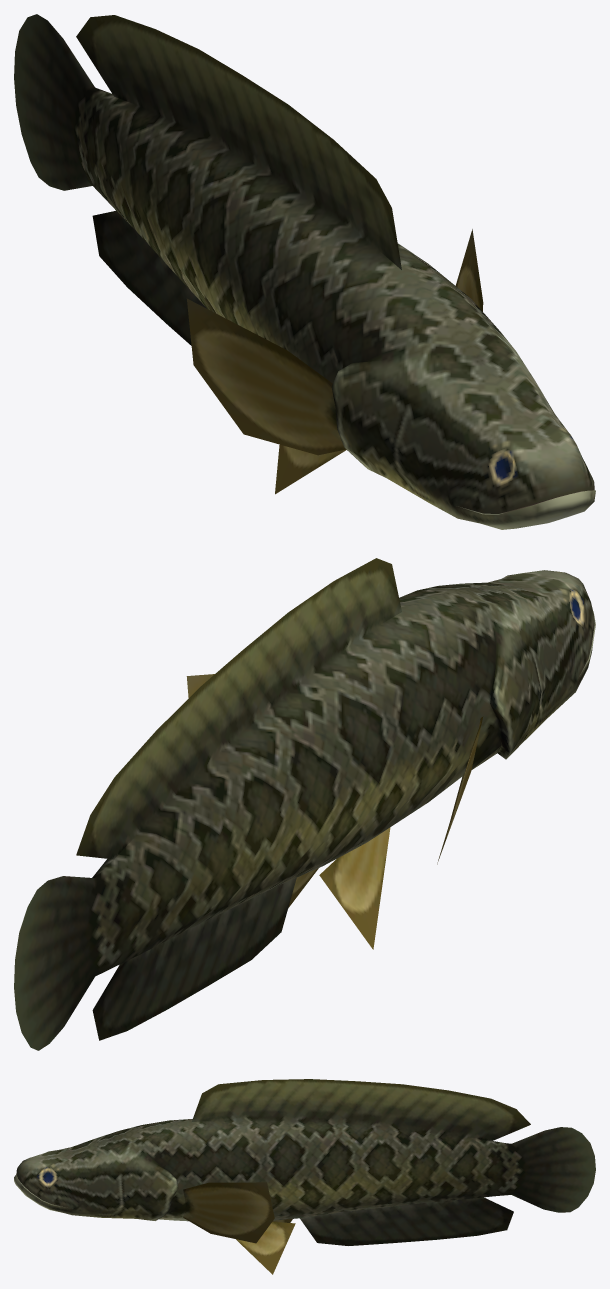
The model's file is FishRaigyo.glb.
The picture shows the model from 3 angles, top to bottom: view 1: azimuth 30°, elevation 25°; view 2: azimuth 150°, elevation 25°; view 3: azimuth 270°, elevation 25°; orthographic projection. The views are drawn at different scales.
Visible parts, largest first — view 1: FishRaigyo__mRaigyo; view 2: FishRaigyo__mRaigyo; view 3: FishRaigyo__mRaigyo.
Boxes of the visible parts, x1,y1,x2,y2 form: FishRaigyo__mRaigyo: (14, 14, 595, 529); FishRaigyo__mRaigyo: (14, 558, 595, 1050); FishRaigyo__mRaigyo: (14, 1079, 595, 1274).
Bounding box in the file's own units: 2.98 × 3.51 × 10.09.
Materials: 1 (1 with a texture image).
